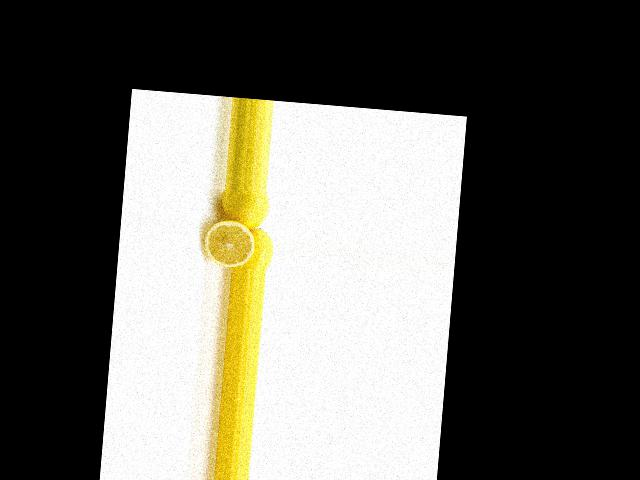lemon: (231, 219, 273, 270)
